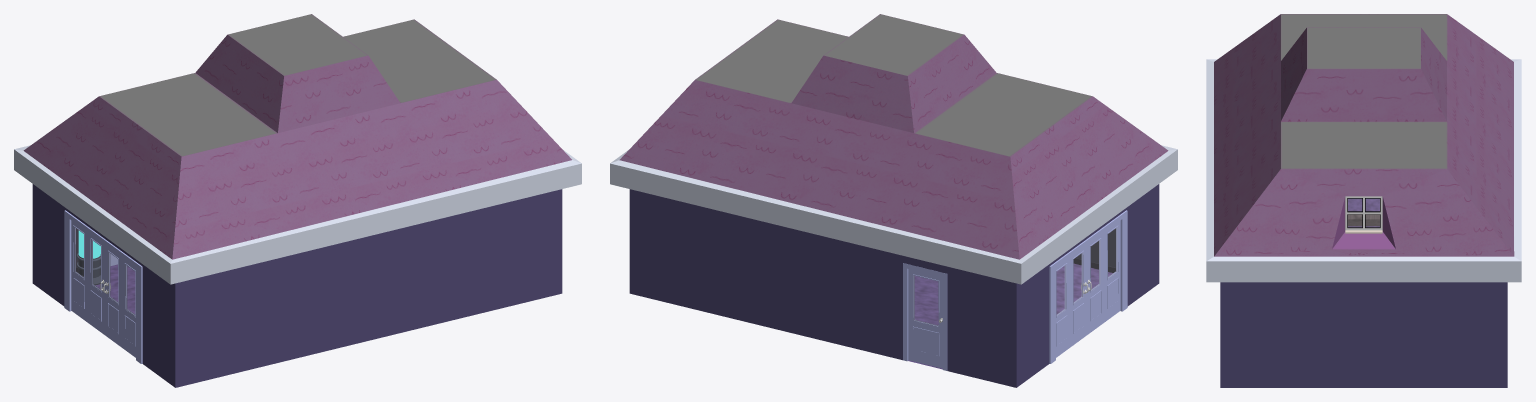
The model's file is Twilight Garage.fbx.
3 renders of one model, left to right at view 1: azimuth 30°, elevation 25°; view 2: azimuth 150°, elevation 25°; view 3: azimuth 270°, elevation 25°, orthographic.
Parts seen in each view (by area): view 1: Outside Building, DoorFrame.001, Door.004, Door.001, Door.002, Door.003, Floor, Sci-fi Lamp.001; view 2: Outside Building, Door, Floor, DoorFrame.001, Door.003, Door.002, Door.001, DoorFrame, Door.004; view 3: Outside Building, Window, Floor, Inside Ceiling.
Boxes of the visible parts, left/top/right/bottom form: Outside Building: left=14, top=14, right=581, bottom=387; DoorFrame.001: left=64, top=210, right=142, bottom=363; Door.004: left=71, top=220, right=87, bottom=322; Door.001: left=105, top=245, right=121, bottom=347; Door.002: left=88, top=233, right=104, bottom=334; Door.003: left=122, top=257, right=135, bottom=357; Floor: left=95, top=264, right=135, bottom=314; Sci-fi Lamp.001: left=76, top=230, right=100, bottom=285; Outside Building: left=610, top=14, right=1177, bottom=387; Door: left=908, top=269, right=942, bottom=368; Floor: left=908, top=263, right=1112, bottom=369; DoorFrame.001: left=1049, top=210, right=1127, bottom=363; Door.003: left=1104, top=220, right=1120, bottom=322; Door.002: left=1070, top=245, right=1086, bottom=347; Door.001: left=1087, top=233, right=1103, bottom=334; DoorFrame: left=903, top=263, right=947, bottom=370; Door.004: left=1056, top=257, right=1069, bottom=357; Outside Building: left=1206, top=14, right=1521, bottom=387; Window: left=1345, top=196, right=1382, bottom=233; Floor: left=1348, top=199, right=1379, bottom=227; Inside Ceiling: left=1348, top=214, right=1379, bottom=226.
Size of the model in its own units: 9.29 by 5.25 by 6.12.
17 materials, 9 textured.
